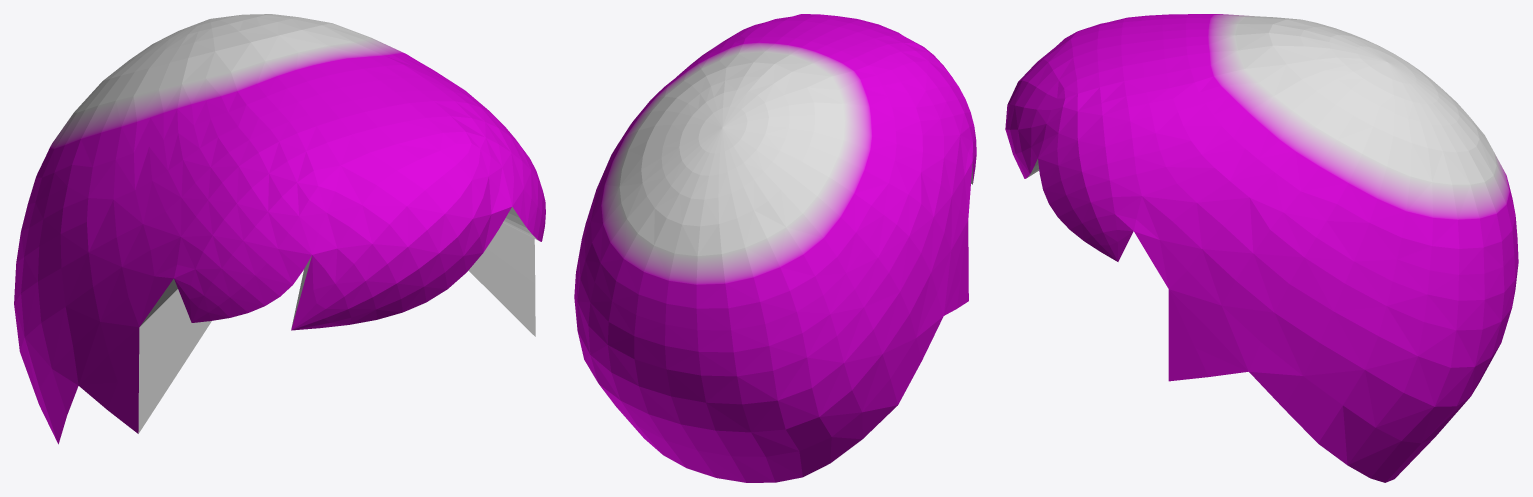
Rendered from hair_52.glb.
3 views of the same model, side by side, from view 1: azimuth 30°, elevation 25°; view 2: azimuth 150°, elevation 25°; view 3: azimuth 270°, elevation 25° (orthographic). The views are drawn at different scales.
Visible parts, largest first — view 1: shape; view 2: shape; view 3: shape.
Boxes of the visible parts, left/top/right/bottom form: shape: left=14, top=14, right=545, bottom=444; shape: left=574, top=14, right=976, bottom=482; shape: left=1005, top=14, right=1518, bottom=482.
Bounding box in the file's own units: 52.6 × 58.21 × 64.06.
